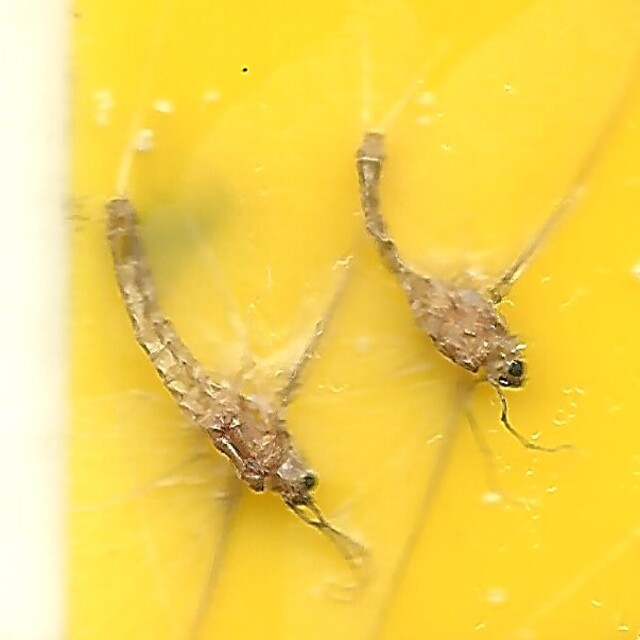Ephemeroptera: (106, 200, 323, 513), (356, 127, 534, 397)
